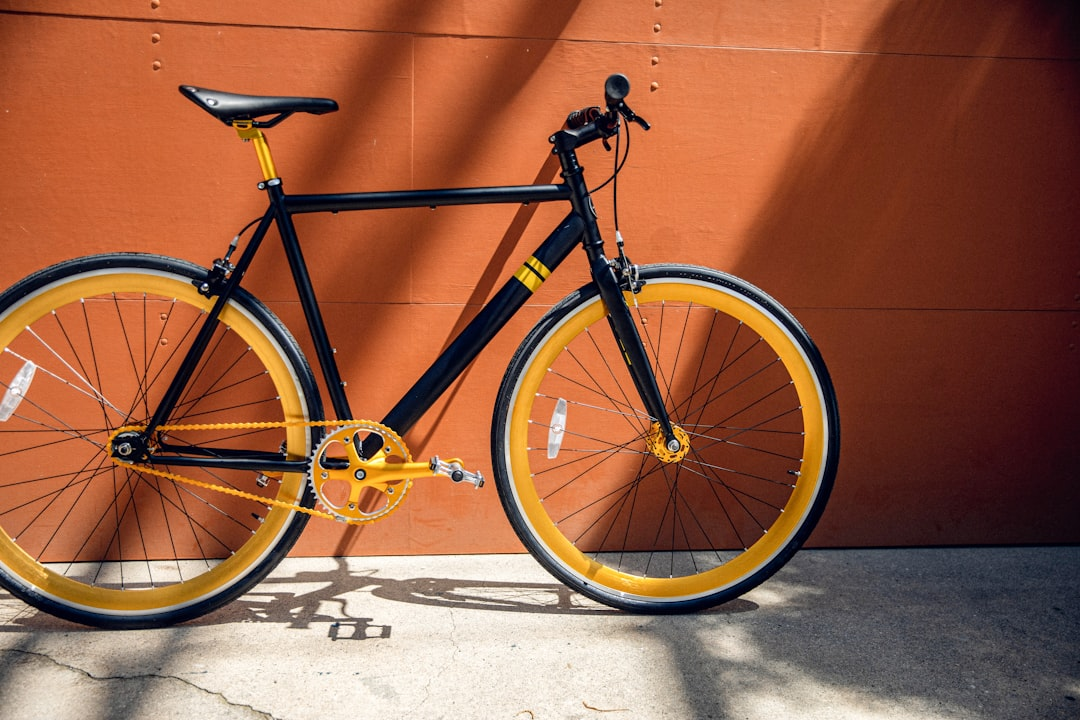bicycle: (7, 80, 848, 626)
